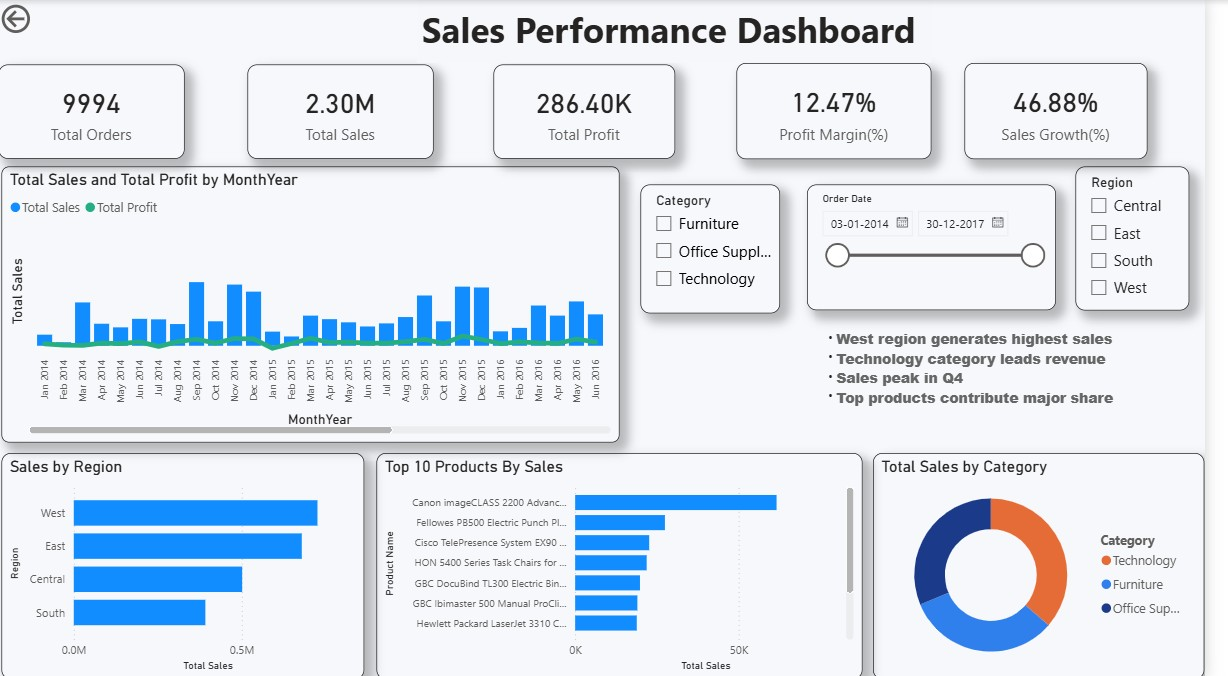

Layout of this report page (visuals, bound fields, positions):
{"tool":"powerbi","page":{"name":"Page 1","canvas":[1280,720],"ordinal":0},"visuals":[{"type":"card","fields":{"Values":["Orders.Total Sales"]},"box":[265.6,68.4,197.2,100.2],"z":0},{"type":"card","fields":{"Values":["Orders.Total Profit"]},"box":[526.5,68.4,192.5,100.2],"z":1000},{"type":"card","fields":{"Values":["Orders.ProfitMargin"]},"box":[784.2,66.8,206.8,101.8],"z":2000},{"type":"card","fields":{"Values":["Orders.SalesGrowth%"]},"box":[1025.9,66.8,194.1,101.8],"z":3000},{"type":"lineClusteredColumnComboChart","fields":{"Y":["Orders.Total Sales"],"Y2":["Orders.Total Profit"],"Category":["DateTable.MonthYear"]},"box":[4.8,176.6,655.3,292.7],"z":4000},{"type":"donutChart","fields":{"Category":["Orders.Category"],"Y":["Orders.Total Sales"]},"box":[928.9,480.4,351.5,240.2],"z":5000},{"type":"clusteredBarChart","title":"Sales by Region","fields":{"Category":["Orders.Region"],"Y":["Orders.Total Sales"]},"box":[4.8,480.4,384.9,240.2],"z":6000},{"type":"clusteredBarChart","title":"Top 10 Products By Sales","fields":{"Category":["Orders.Product Name"],"Y":["Orders.Total Sales"]},"box":[402.4,480.4,515.4,240.2],"z":7000},{"type":"slicer","fields":{"Values":["Orders.Region"]},"box":[1143.6,176.6,120.9,152.7],"z":8000},{"type":"actionButton","box":[0,0,100,40],"z":9000},{"type":"slicer","fields":{"Values":["Orders.Category"]},"box":[682.4,195.6,147.9,136.8],"z":10000},{"type":"slicer","fields":{"Values":["Orders.Order Date"]},"box":[858.9,195.6,264,133.6],"z":11000},{"type":"card","fields":{"Values":["Orders.Total Order"]},"box":[1.6,68.4,197.2,100.2],"z":12000},{"type":"textbox","box":[445.4,0,545.6,66.8],"z":13000},{"type":"textbox","box":[866.9,343.6,397.7,125.7],"z":13001}]}

Visuals, with their boxes in screenshot pixels (x1, y1, x2, y2), scaled from the page's 1280x720 canvas onto the 1228x676 screenshot:
card - Orders.Total Sales: 255:64:444:158
card - Orders.Total Profit: 505:64:690:158
card - Orders.ProfitMargin: 752:63:951:158
card - Orders.SalesGrowth%: 984:63:1170:158
lineClusteredColumnComboChart - Orders.Total Sales x Orders.Total Profit: 5:166:633:441
donutChart - Orders.Category x Orders.Total Sales: 891:451:1227:675
"Sales by Region" clusteredBarChart: 5:451:374:675
"Top 10 Products By Sales" clusteredBarChart: 386:451:881:675
slicer - Orders.Region: 1097:166:1213:309
actionButton: 0:0:96:38
slicer - Orders.Category: 655:184:797:312
slicer - Orders.Order Date: 824:184:1077:309
card - Orders.Total Order: 2:64:191:158
textbox: 427:0:951:63
textbox: 832:323:1213:441
